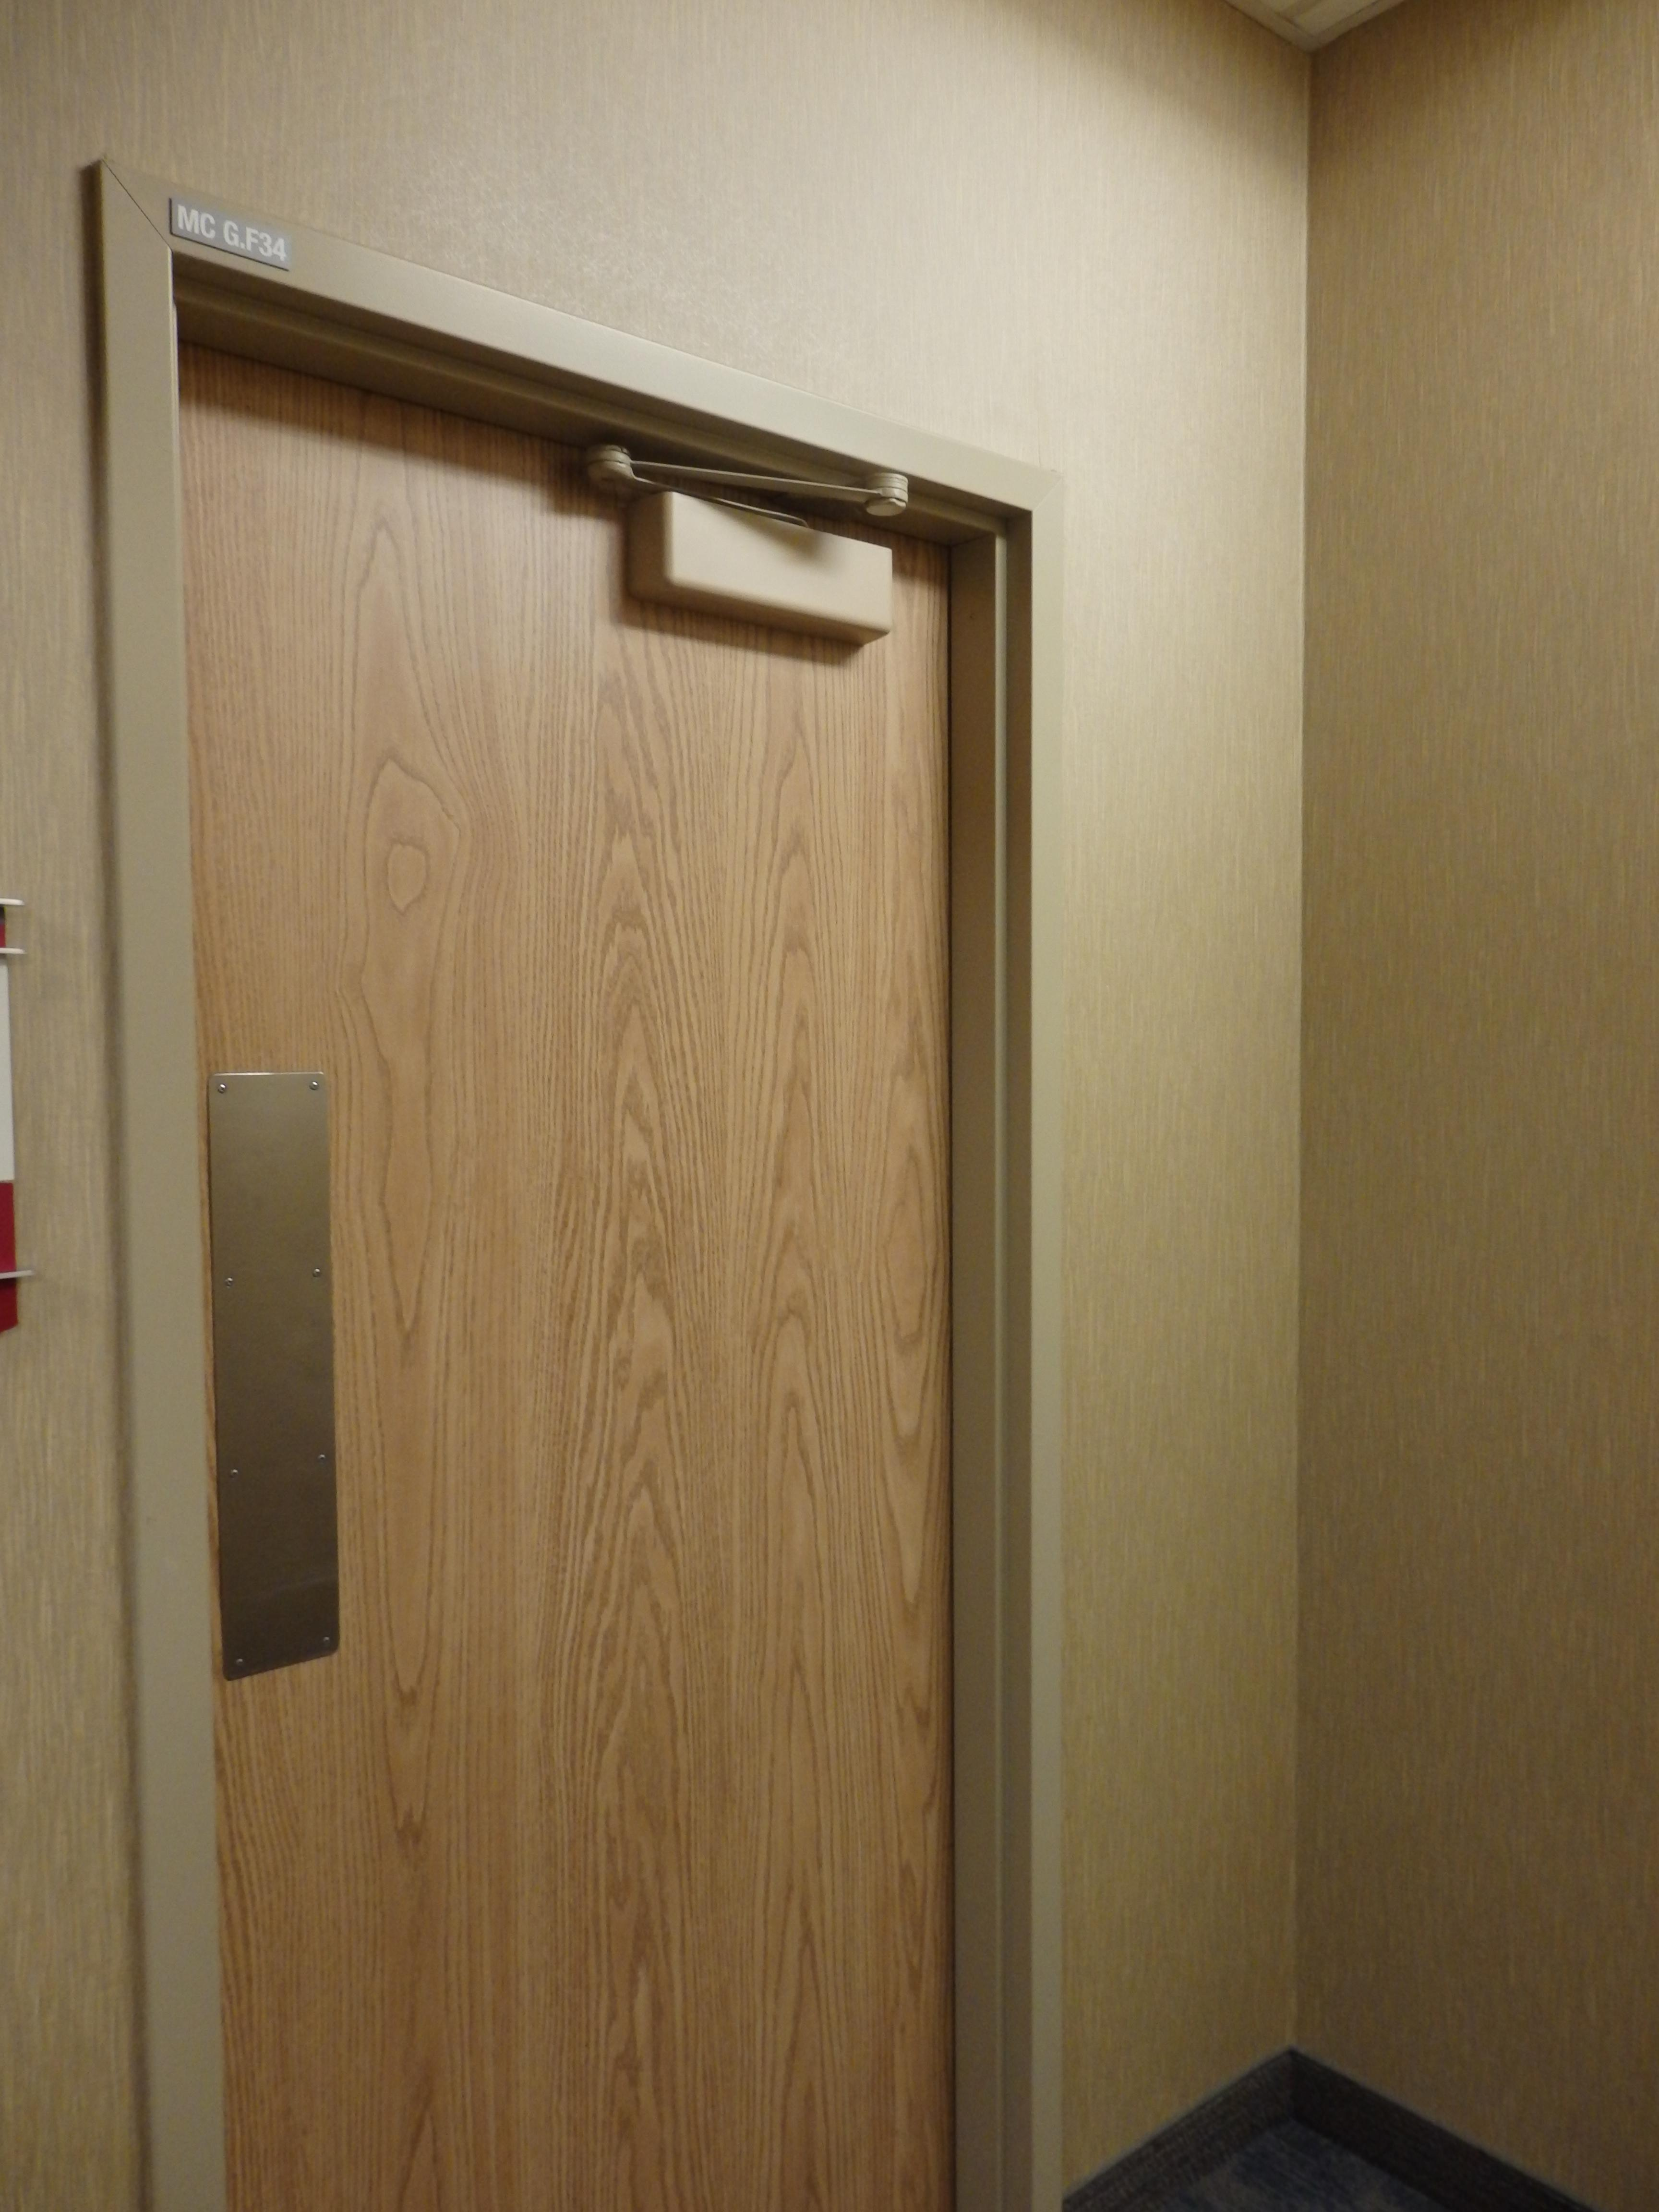door: (98, 160, 1079, 2203)
